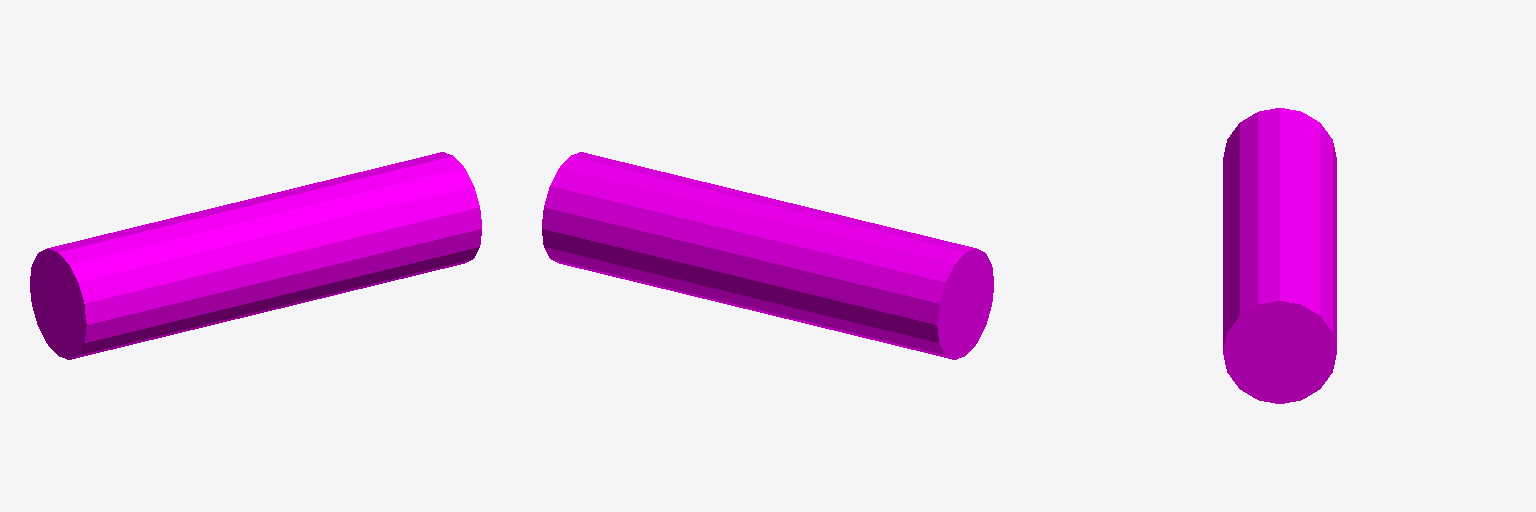
File: joint_hinge.obj
The picture shows the model from 3 angles: view 1: azimuth 30°, elevation 25°; view 2: azimuth 150°, elevation 25°; view 3: azimuth 270°, elevation 25°; orthographic projection.
Parts seen in each view (by area): view 1: cylinder1; view 2: cylinder1; view 3: cylinder1.
Part boxes in pixels (bbox=[...]): cylinder1: bbox=[30, 152, 481, 359]; cylinder1: bbox=[542, 152, 993, 359]; cylinder1: bbox=[1223, 108, 1336, 403].
Bounding box in the file's own units: 2 × 0.5 × 0.5.